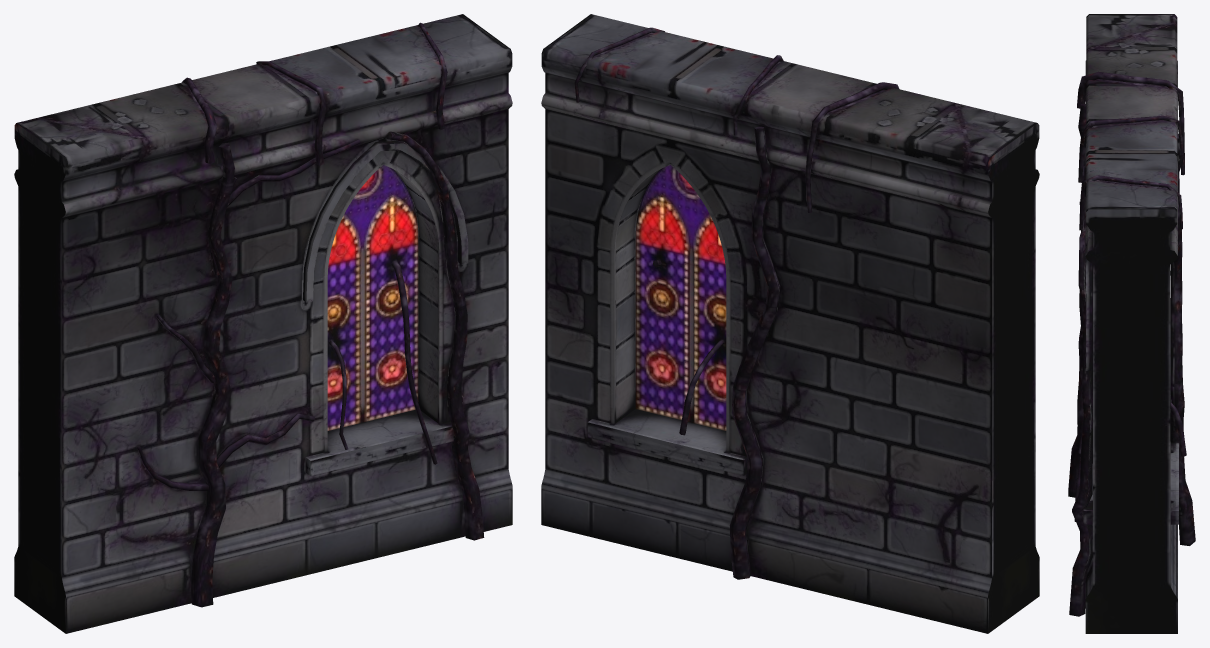
File: thorn_wall.glb
The picture shows the model from 3 angles, left to right: view 1: azimuth 30°, elevation 25°; view 2: azimuth 150°, elevation 25°; view 3: azimuth 270°, elevation 25°; orthographic projection. The views are drawn at different scales.
Parts seen in each view (by area): view 1: thorn_wall; view 2: thorn_wall; view 3: thorn_wall.
Part boxes in pixels (box(x1,y1,x2,y2)): thorn_wall: box(14, 14, 512, 633); thorn_wall: box(541, 14, 1039, 633); thorn_wall: box(1068, 14, 1195, 633).
Size of the model in its own units: 4 by 4.13 by 1.11.
Materials: 1 (1 with a texture image).
